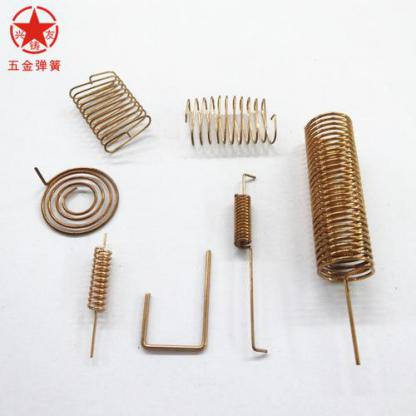FOD: (300, 108, 380, 370), (67, 65, 153, 156), (232, 169, 273, 356), (32, 162, 123, 236), (184, 107, 279, 152), (85, 232, 114, 360), (182, 96, 269, 121)
